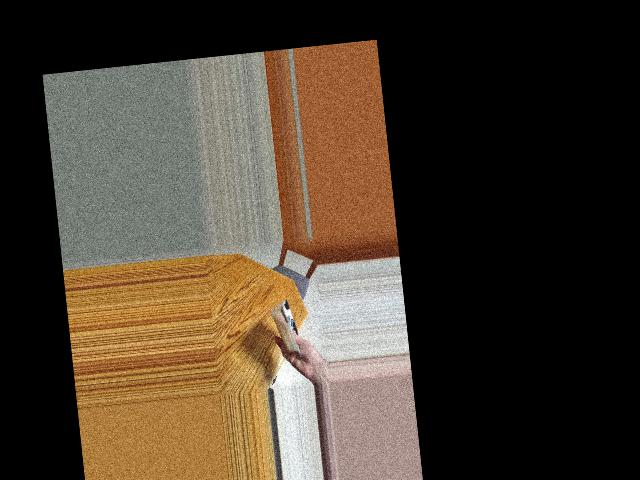cheese: (264, 299, 313, 355)
